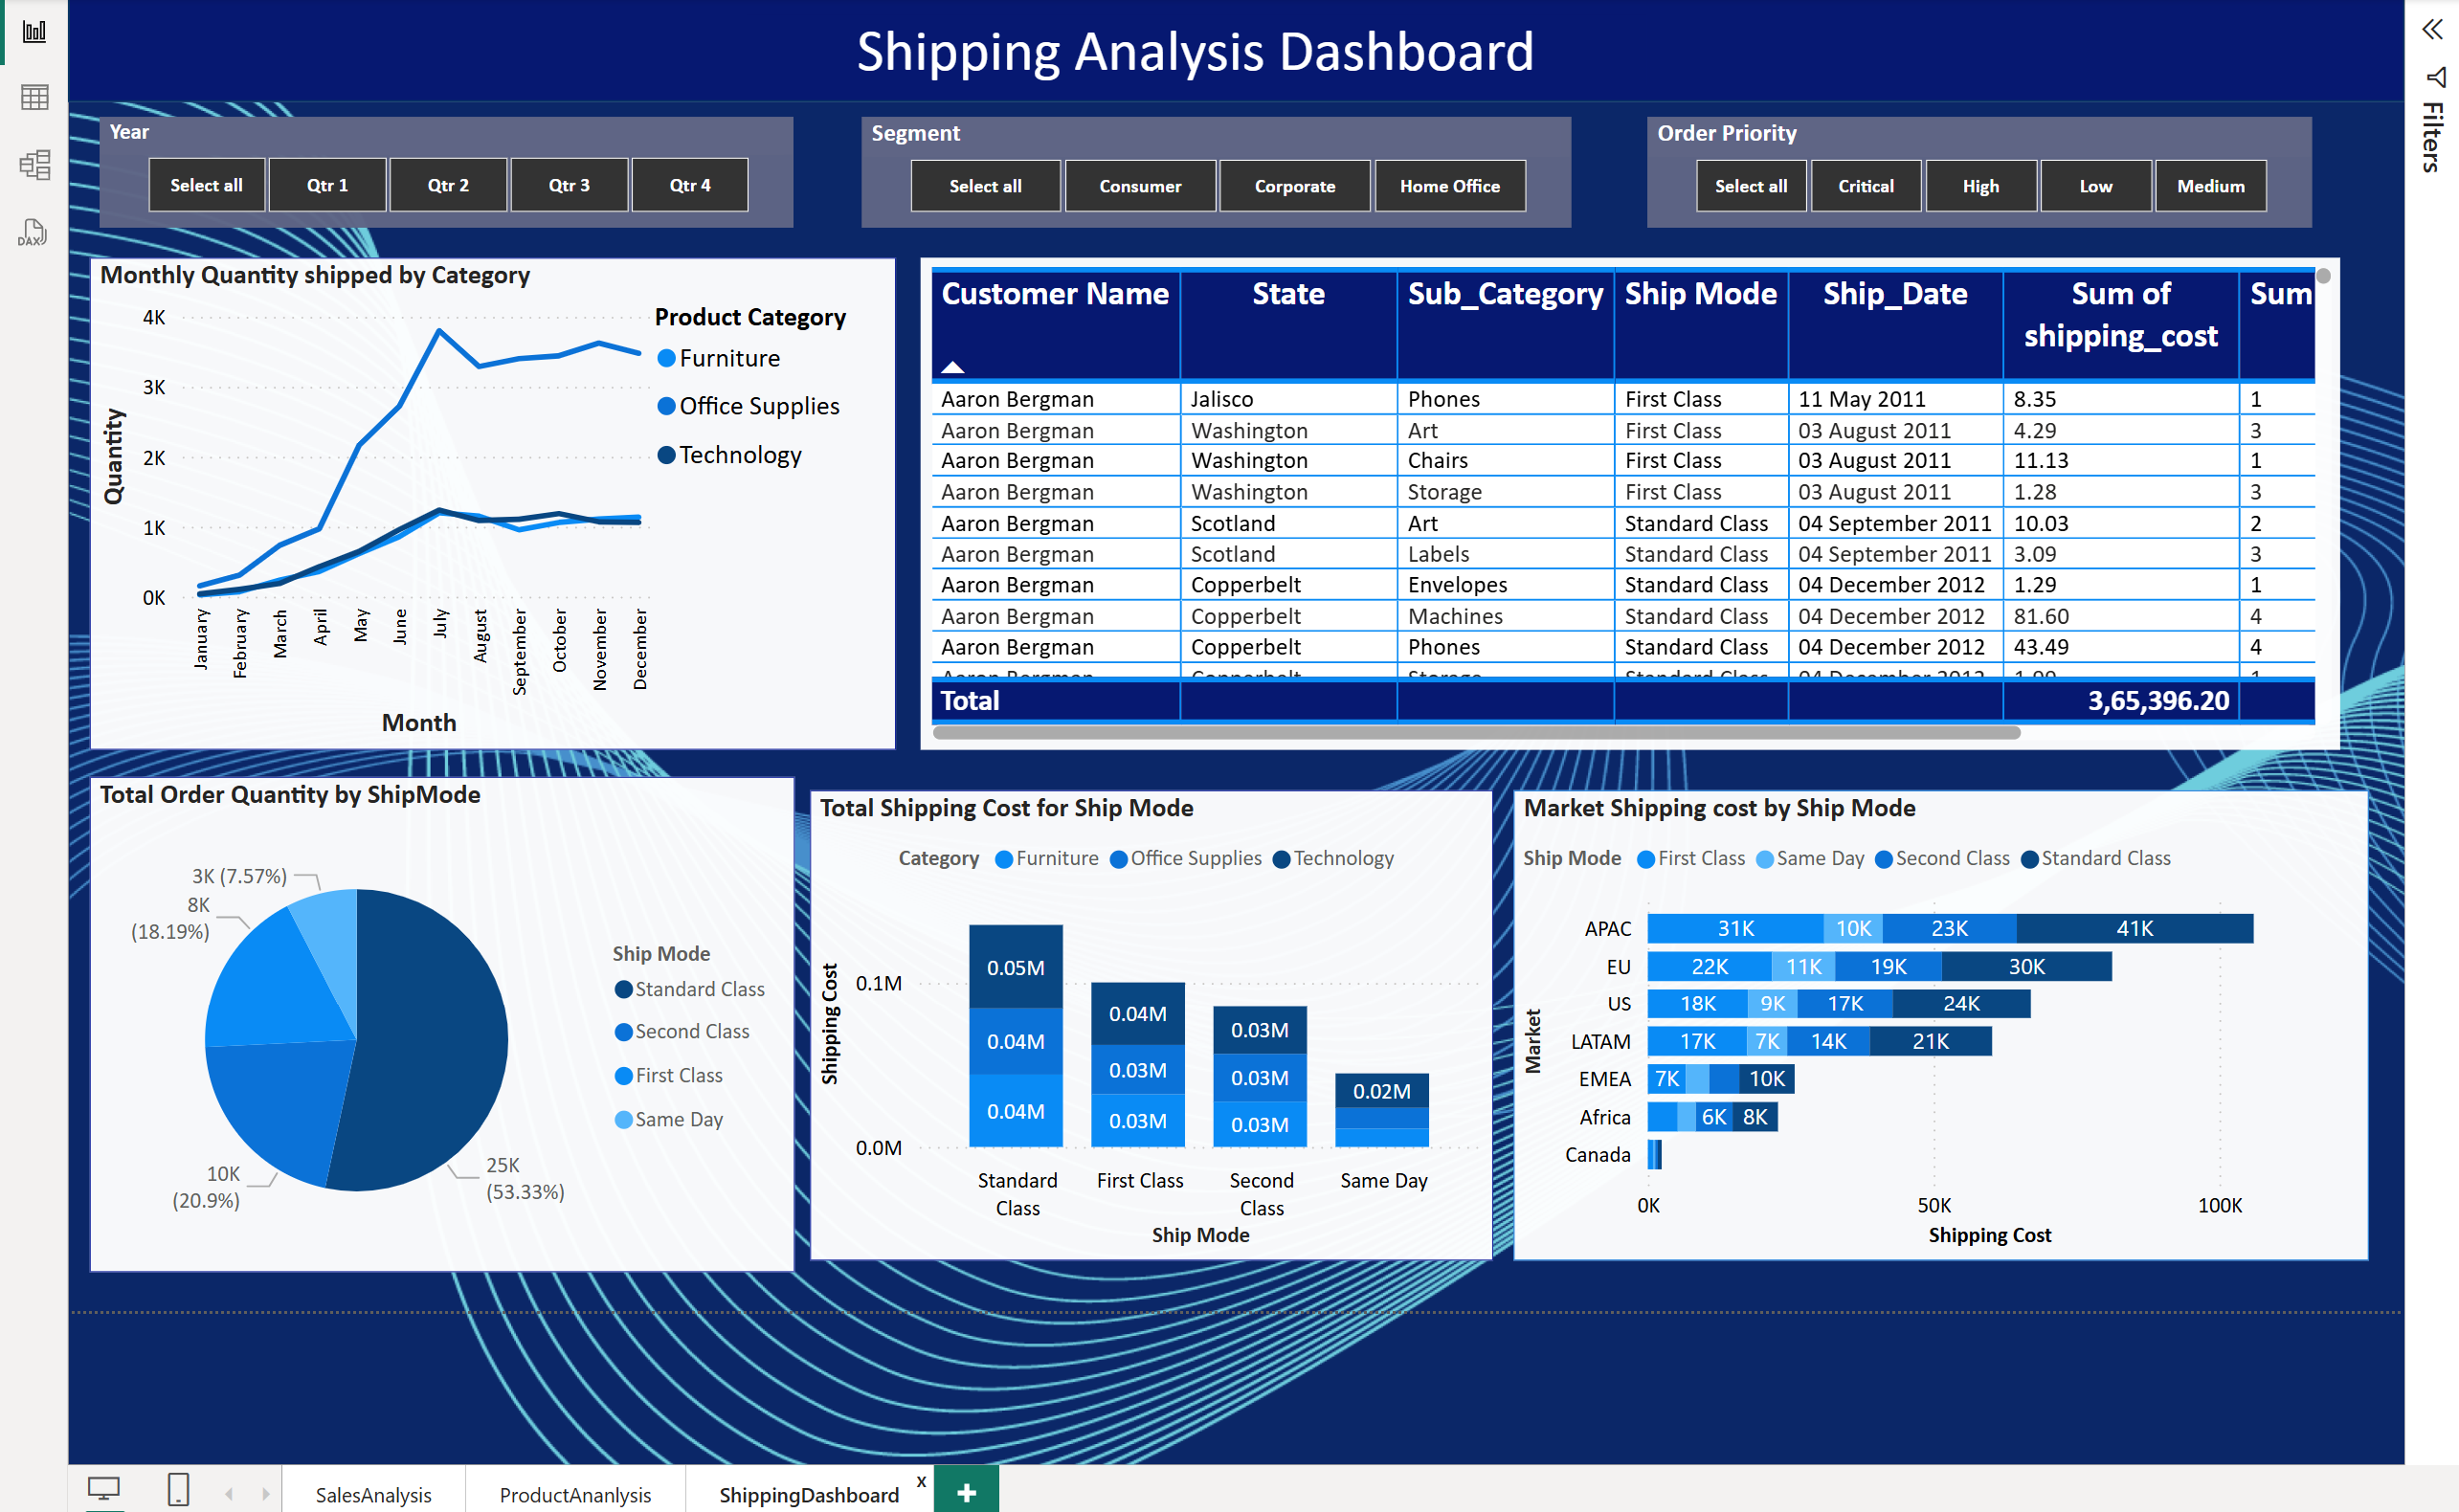

Layout of this report page (visuals, bound fields, positions):
{"tool":"powerbi","page":{"name":"ShippingDashboard","canvas":[1280,720],"ordinal":2},"visuals":[{"type":"shape","box":[0,0,1280.2,57],"z":0},{"type":"textbox","title":"Shipping Analysis Dashboard","box":[372.1,9.3,493,38.4],"z":1000},{"type":"slicer","title":"Year","fields":{"Values":["SuperStoreOrders2.order_date.Variation.Date Hierarchy.Quarter"]},"box":[17.4,65.1,380.2,60.5],"z":2000},{"type":"slicer","title":"Segment","fields":{"Values":["SuperStoreOrders2.segment"]},"box":[434.9,65.1,388.4,60.5],"z":3000},{"type":"barChart","title":"Market Shipping cost by Ship Mode","fields":{"Y":["Sum(SuperStoreOrders2.shipping_cost)"],"Series":["SuperStoreOrders2.ship_mode"],"Category":["SuperStoreOrders2.Market"]},"box":[791.9,433.7,468.6,258.1],"z":4000},{"type":"columnChart","title":"Total Shipping Cost for Ship Mode ","fields":{"Y":["Sum(SuperStoreOrders2.shipping_cost)"],"Series":["SuperStoreOrders2.Category"],"Category":["SuperStoreOrders2.ship_mode"]},"box":[407,433.7,374.4,258.1],"z":5000},{"type":"lineChart","title":"Monthly Quantity shipped by Category","fields":{"Category":["SuperStoreOrders2.Ship_Date.Variation.Date Hierarchy.Month"],"Series":["SuperStoreOrders2.Category"],"Y":["Sum(SuperStoreOrders2.quantity)"]},"box":[11.6,141.9,441.9,269.8],"z":6000},{"type":"pieChart","title":"Total Order Quantity by ShipMode","fields":{"Y":["Sum(SuperStoreOrders2.quantity)"],"Category":["SuperStoreOrders2.ship_mode"]},"box":[11.6,426.7,386,272.1],"z":7000},{"type":"slicer","title":"Order Priority","fields":{"Values":["SuperStoreOrders2.order_priority"]},"box":[865.1,65.1,364,60.5],"z":8000},{"type":"tableEx","fields":{"Values":["SuperStoreOrders2.customer_name","SuperStoreOrders2.State","SuperStoreOrders2.Sub_Category","SuperStoreOrders2.ship_mode","SuperStoreOrders2.ship_date","Sum(SuperStoreOrders2.shipping_cost)","Sum(SuperStoreOrders2.quantity)","Sum(SuperStoreOrders2.sales)"]},"box":[467.4,141.9,777.9,269.8],"z":9000}]}

Visuals, with their boxes on the page's 1280x720 design canvas (x1, y1, x2, y2). These are canvas units, not pixel positions in the 2459x1512 screenshot, which may show the page scaled, cropped or inside an application window:
shape: select_region(0, 0, 1280, 57)
"Shipping Analysis Dashboard" textbox: select_region(372, 9, 865, 48)
"Year" slicer: select_region(17, 65, 398, 126)
"Segment" slicer: select_region(435, 65, 823, 126)
"Market Shipping cost by Ship Mode" barChart: select_region(792, 434, 1260, 692)
"Total Shipping Cost for Ship Mode " columnChart: select_region(407, 434, 781, 692)
"Monthly Quantity shipped by Category" lineChart: select_region(12, 142, 454, 412)
"Total Order Quantity by ShipMode" pieChart: select_region(12, 427, 398, 699)
"Order Priority" slicer: select_region(865, 65, 1229, 126)
tableEx - SuperStoreOrders2.customer_name x SuperStoreOrders2.State: select_region(467, 142, 1245, 412)
